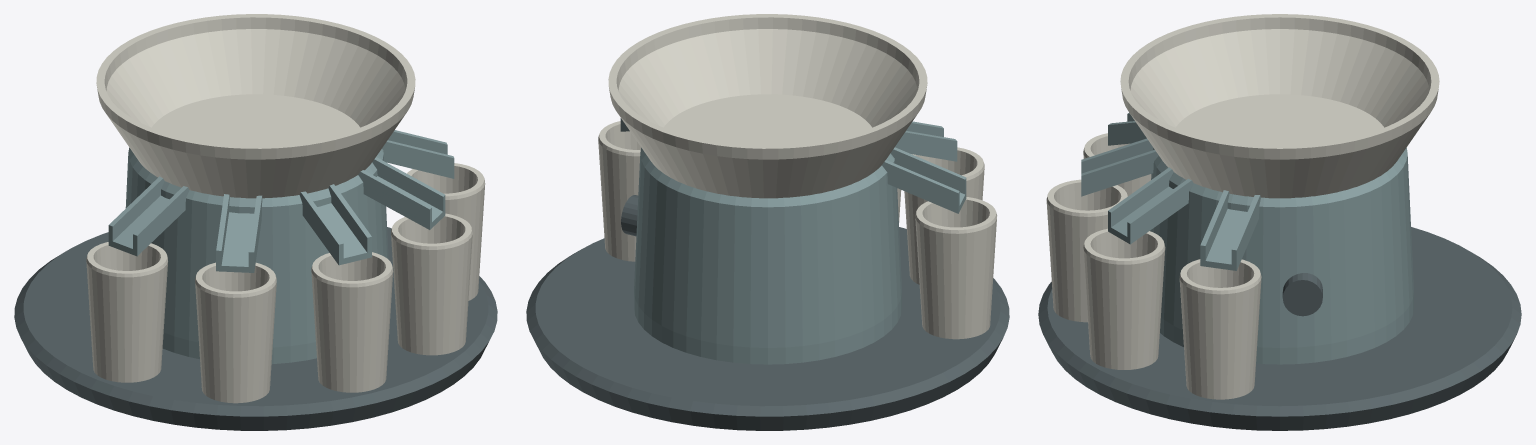
3 views of the same model, side by side, from view 1: azimuth 30°, elevation 25°; view 2: azimuth 150°, elevation 25°; view 3: azimuth 270°, elevation 25° (orthographic).
Visible parts, largest first — view 1: WholeEmptyUpperLoadingBowl, WholeBroadGroundBase, WholeClosedCentralMechanismCase, WholeOpenReceivingCup3, WholeOpenReceivingCup0, WholeOpenReceivingCup2, WholeOpenReceivingCup1, WholeInclinedChannel0, WholeInclinedChannel3, WholeInclinedChannel2, WholeOpenReceivingCup4, WholeInclinedChannel1 (+1 smaller); view 2: WholeEmptyUpperLoadingBowl, WholeClosedCentralMechanismCase, WholeBroadGroundBase, WholeOpenReceivingCup0, WholeOpenReceivingCup4, WholeInclinedChannel0, WholeOpenReceivingCup1, WholeInclinedChannel1, WholeSideBlankControlDial; view 3: WholeEmptyUpperLoadingBowl, WholeBroadGroundBase, WholeClosedCentralMechanismCase, WholeOpenReceivingCup3, WholeOpenReceivingCup4, WholeOpenReceivingCup2, WholeInclinedChannel3, WholeInclinedChannel4, WholeInclinedChannel2, WholeSideBlankControlDial, WholeOpenReceivingCup1, WholeInclinedChannel1.
Part boxes in pixels (box(x1,y1,x2,y2)): WholeEmptyUpperLoadingBowl: box(96, 14, 415, 198); WholeBroadGroundBase: box(14, 227, 497, 430); WholeClosedCentralMechanismCase: box(125, 147, 388, 363); WholeOpenReceivingCup3: box(391, 213, 472, 355); WholeOpenReceivingCup0: box(86, 242, 167, 382); WholeOpenReceivingCup2: box(311, 252, 393, 392); WholeOpenReceivingCup1: box(195, 262, 276, 403); WholeInclinedChannel0: box(108, 176, 189, 256); WholeInclinedChannel3: box(358, 157, 445, 229); WholeInclinedChannel2: box(299, 184, 371, 265); WholeOpenReceivingCup4: box(407, 163, 485, 300); WholeInclinedChannel1: box(216, 194, 262, 272); WholeEmptyUpperLoadingBowl: box(608, 14, 927, 198); WholeClosedCentralMechanismCase: box(634, 147, 901, 364); WholeBroadGroundBase: box(526, 227, 1009, 430); WholeOpenReceivingCup0: box(915, 197, 997, 339); WholeOpenReceivingCup4: box(598, 121, 640, 261); WholeInclinedChannel0: box(882, 147, 966, 213); WholeOpenReceivingCup1: box(904, 147, 984, 284); WholeInclinedChannel1: box(895, 121, 957, 161); WholeSideBlankControlDial: box(621, 195, 638, 236); WholeEmptyUpperLoadingBowl: box(1120, 14, 1439, 198); WholeBroadGroundBase: box(1038, 227, 1521, 430); WholeClosedCentralMechanismCase: box(1150, 148, 1413, 364); WholeOpenReceivingCup3: box(1083, 228, 1165, 369); WholeOpenReceivingCup4: box(1179, 259, 1261, 399); WholeOpenReceivingCup2: box(1046, 179, 1127, 322); WholeInclinedChannel3: box(1108, 167, 1193, 244); WholeInclinedChannel4: box(1200, 190, 1260, 270); WholeInclinedChannel2: box(1081, 138, 1158, 196); WholeSideBlankControlDial: box(1282, 273, 1322, 316); WholeOpenReceivingCup1: box(1083, 133, 1151, 196); WholeInclinedChannel1: box(1108, 113, 1146, 145).
Bounding box in the file's own units: 0.53 × 0.304 × 0.53.
